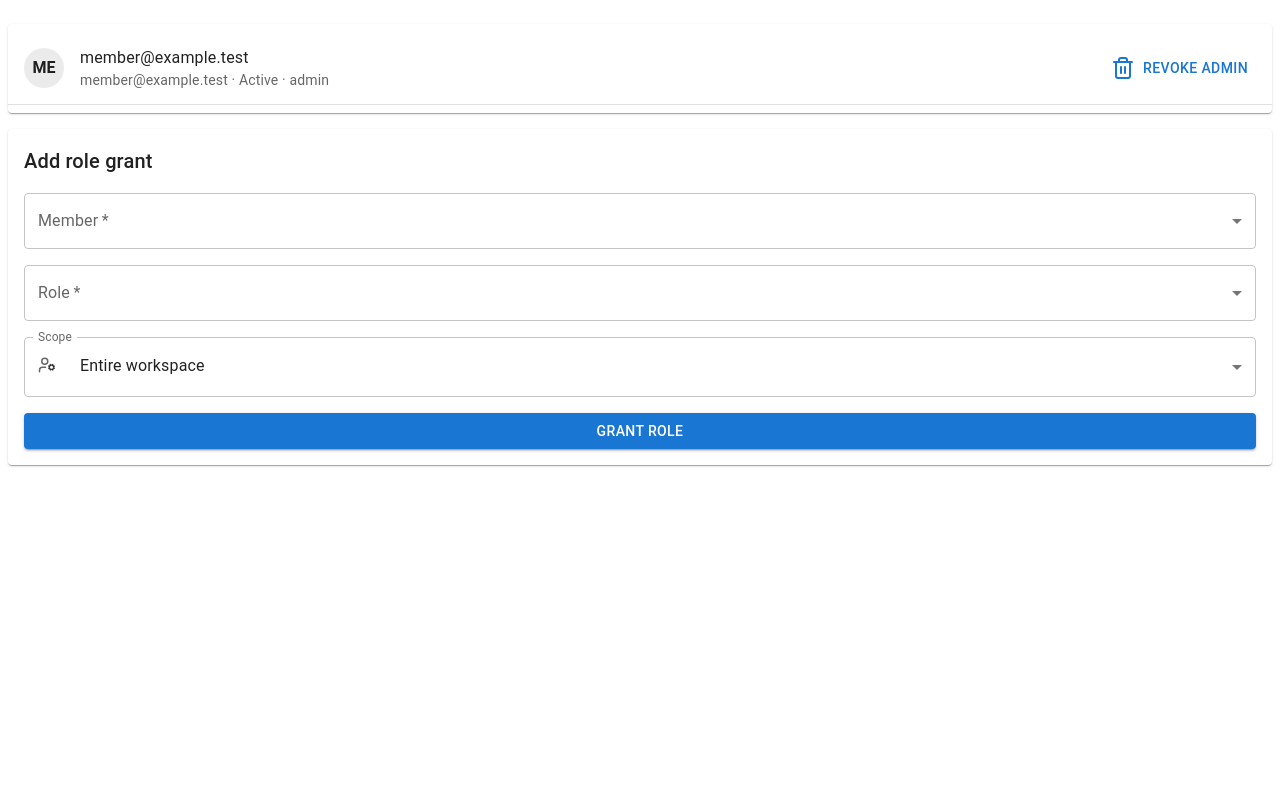
Test: WorkspaceMembersSection › revokes a role only after confirmation
Click the button "Revoke admin" at (1182, 68), box [1107,50,1256,86]
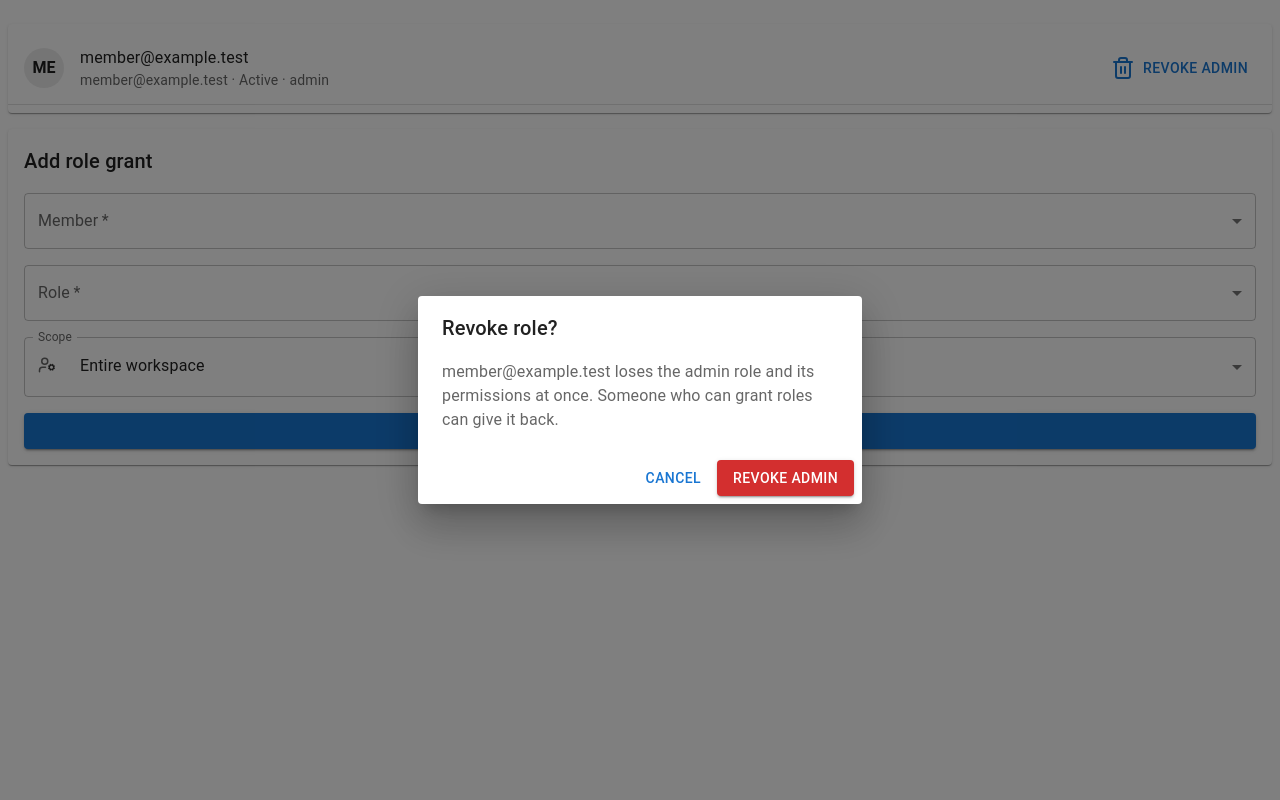
Expected: the dialog "Revoke role?" shows "member@example.test loses the admin role", [442,362,814,429]
Click the button "Revoke admin" at (786, 478), box [717,460,854,496]
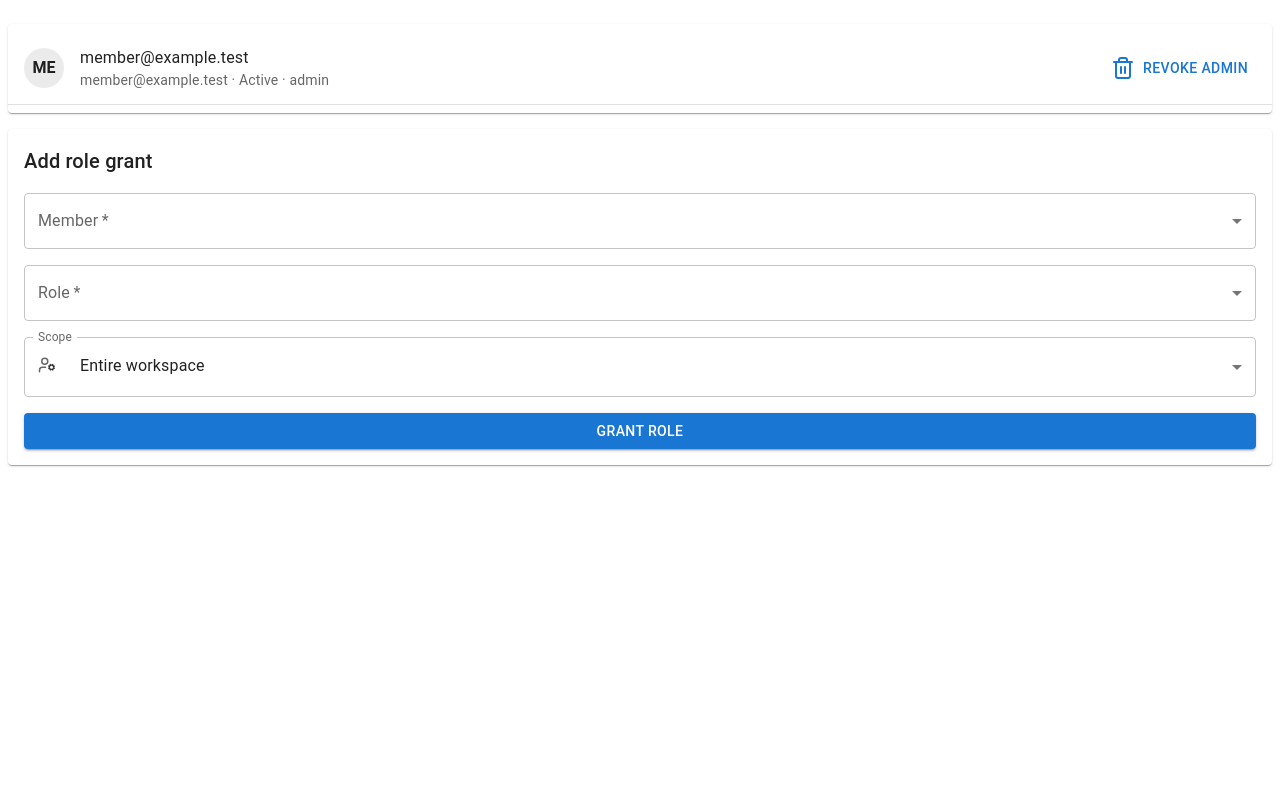
Expected: the dialog is gone
